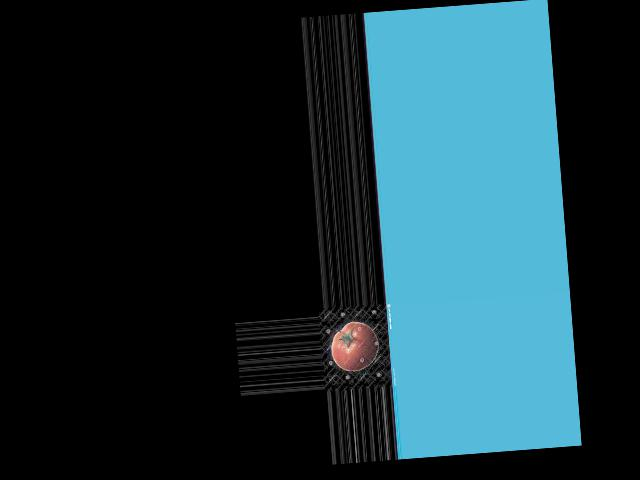tomato: (329, 320, 380, 373)
